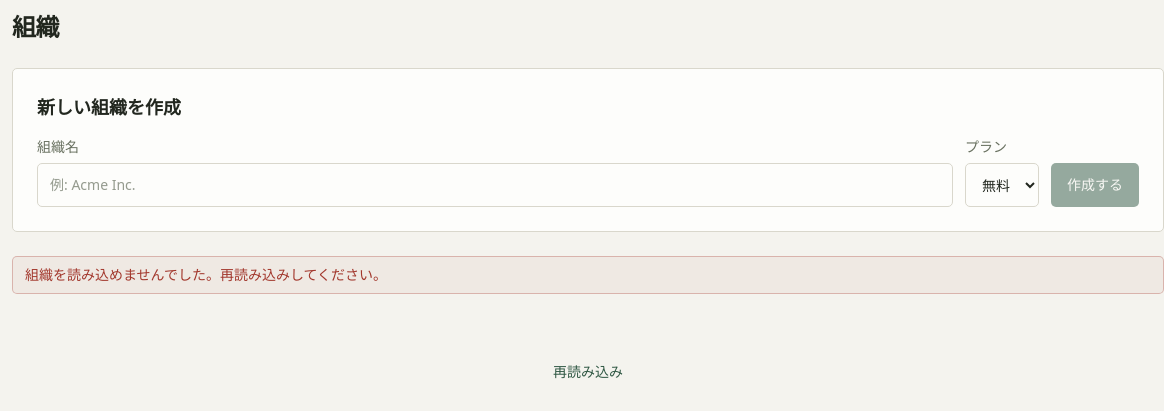
Scenario: Orgs › surfaces an unauthenticated request and lets the user reload the list
The image size is (1164, 411).
Check: the message shows "組織を読み込めませんでした", box [25,265,387,284]
Click the button "再読み込み" at (588, 372), box [537,350,639,394]
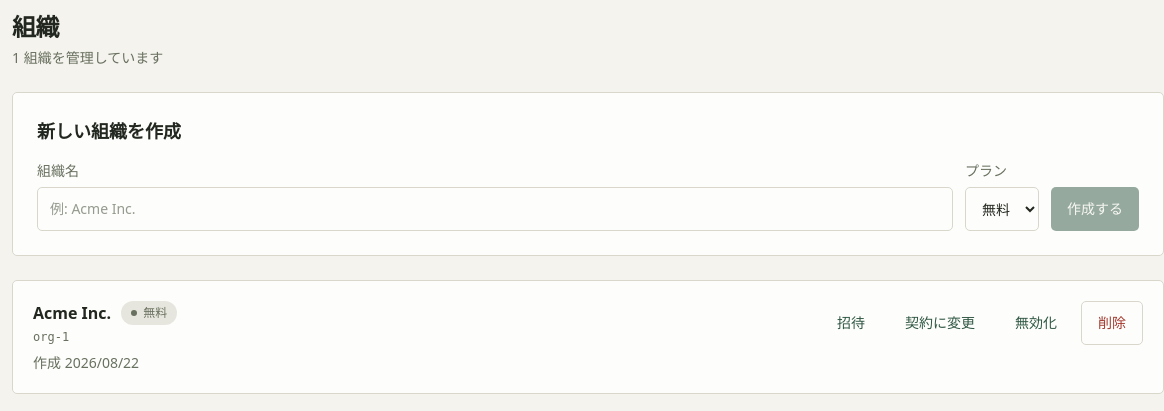
Check: the text "Acme Inc." is shown, box [33,301,111,325]
